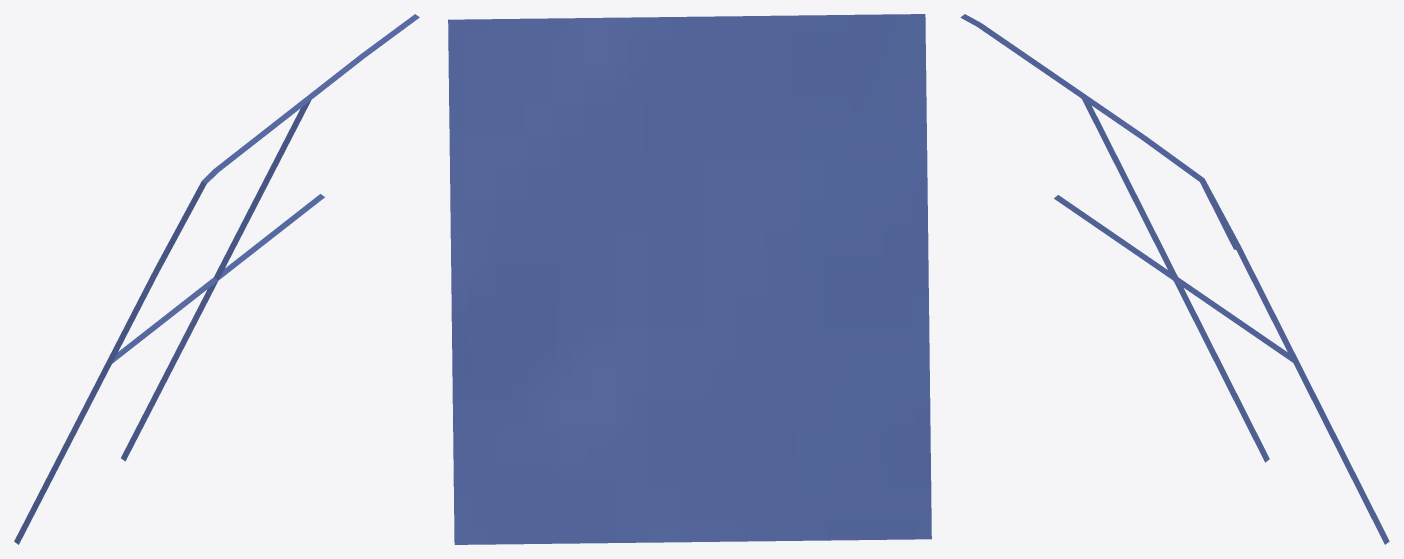
3 views of the same model, side by side, from view 1: azimuth 30°, elevation 25°; view 2: azimuth 150°, elevation 25°; view 3: azimuth 270°, elevation 25° (orthographic). The views are drawn at different scales.
Bounding box in the file's own units: 4907 × 4431 × 4164.
1 material, 1 textured.
